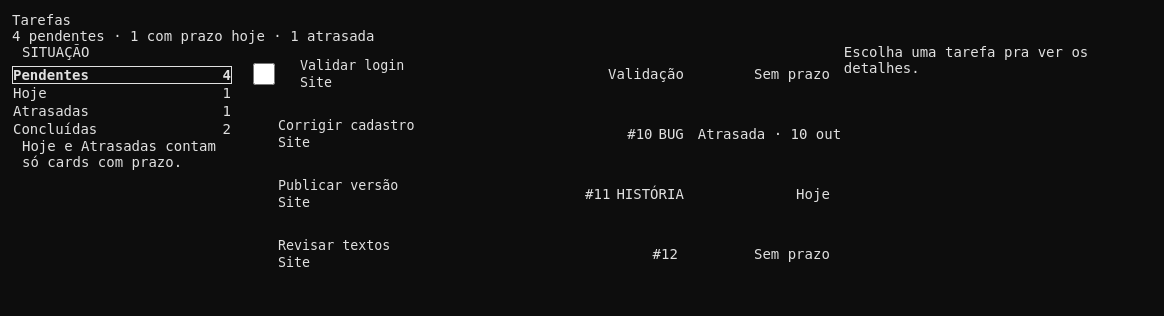
Test: TasksScreen › card detail shows the read-only board notice and the id chip
Click the text "Corrigir cadastro": (346, 126) [278, 118, 414, 133]
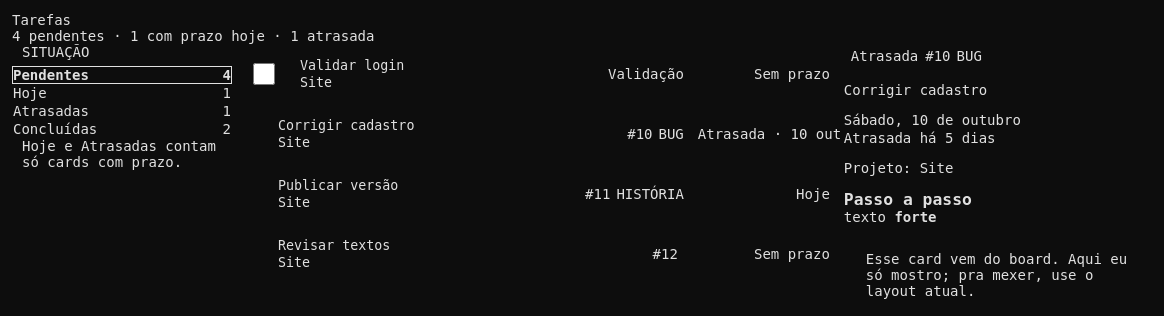
Result: the 1st text "#10" is shown at [925, 48, 951, 64]
Result: the 1st text "BUG" is shown at [956, 44, 982, 68]
Result: the text "Atrasada" is shown at [844, 44, 919, 68]
